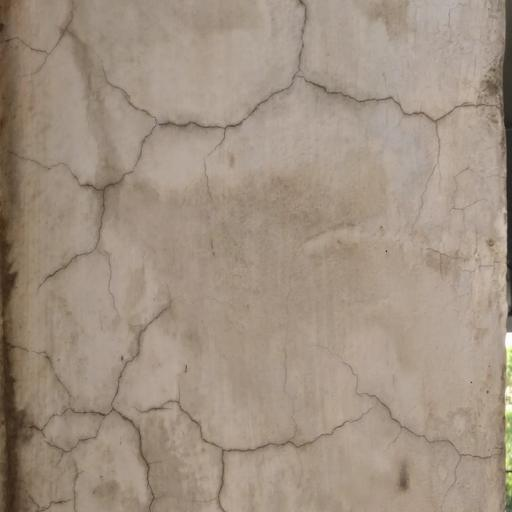major_crack: (27, 41, 483, 484)
